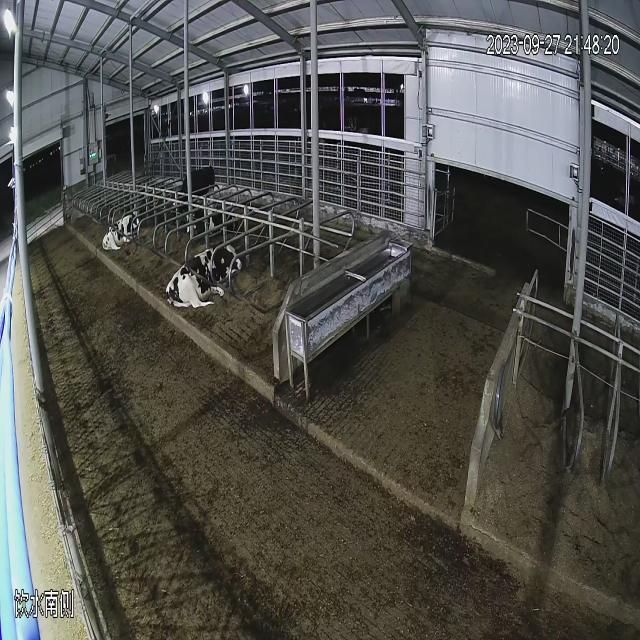lying down: (163, 237, 242, 326), (178, 194, 242, 249), (98, 208, 144, 260)
standing: (174, 159, 221, 213)
